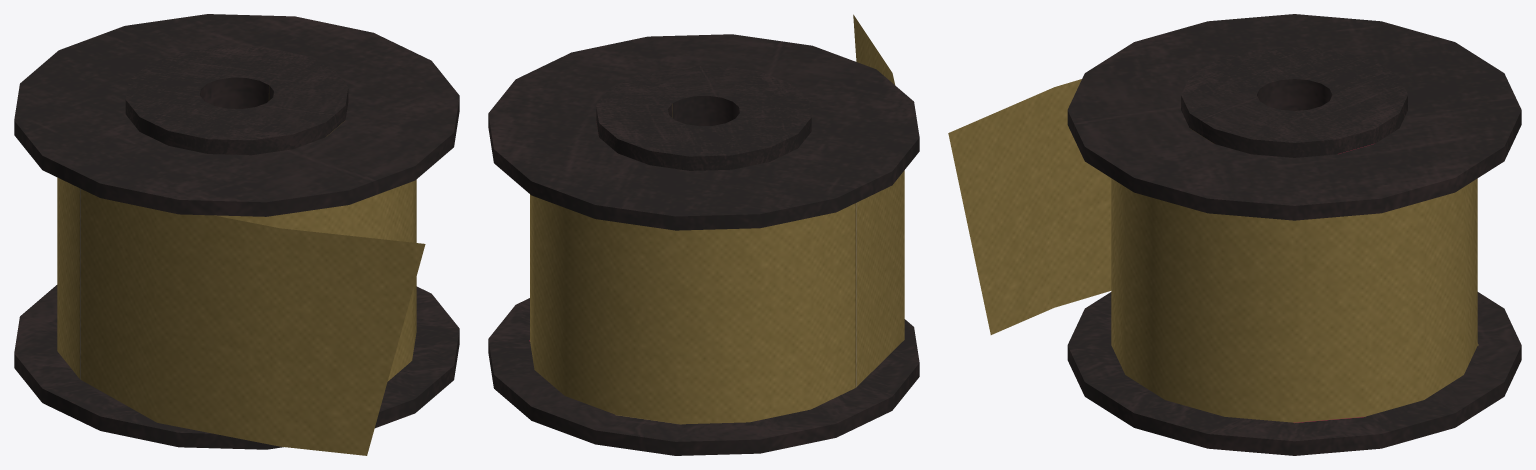
File: ribbonRoll.fbx
The picture shows the model from 3 angles, left to right: view 1: azimuth 30°, elevation 25°; view 2: azimuth 150°, elevation 25°; view 3: azimuth 270°, elevation 25°; orthographic projection. The views are drawn at different scales.
Parts seen in each view (by area): view 1: ribbonRoll; view 2: ribbonRoll; view 3: ribbonRoll.
Boxes of the visible parts, x1,y1,x2,y2 form: ribbonRoll: (14, 14, 459, 455); ribbonRoll: (488, 14, 919, 455); ribbonRoll: (948, 14, 1521, 455).
Size of the model in its own units: 19.54 by 13.29 by 24.67.
2 materials, 2 textured.
